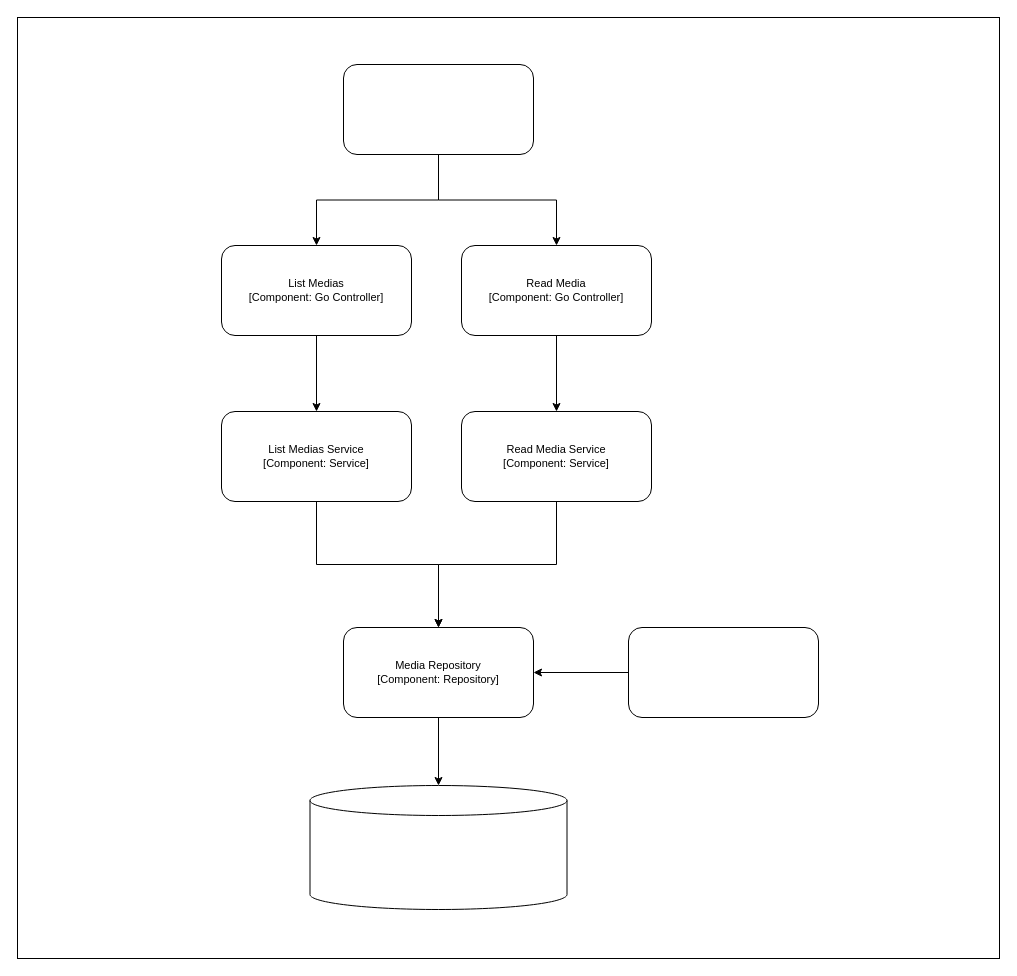
The diagram is 1017 pixels wide and 976 high, and some of its shapes have lost their labels. The shapes that lost their labels are listed below. From the top down, each one's centre as x and y in pixels, then its label:
At pixel 438 109: "Media Service".
At pixel 723 672: "Media Model [Component: Model]".
At pixel 438 847: "Database [Container: Postgres Database Schema]".
